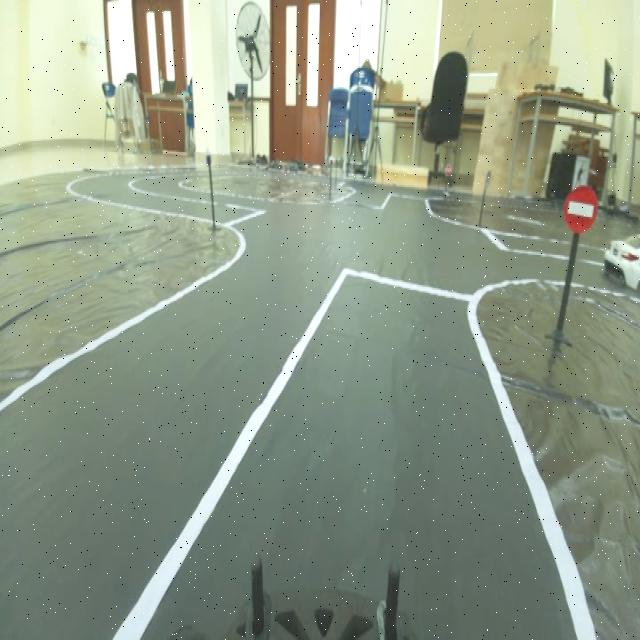no_entry: (562, 167, 594, 240)
